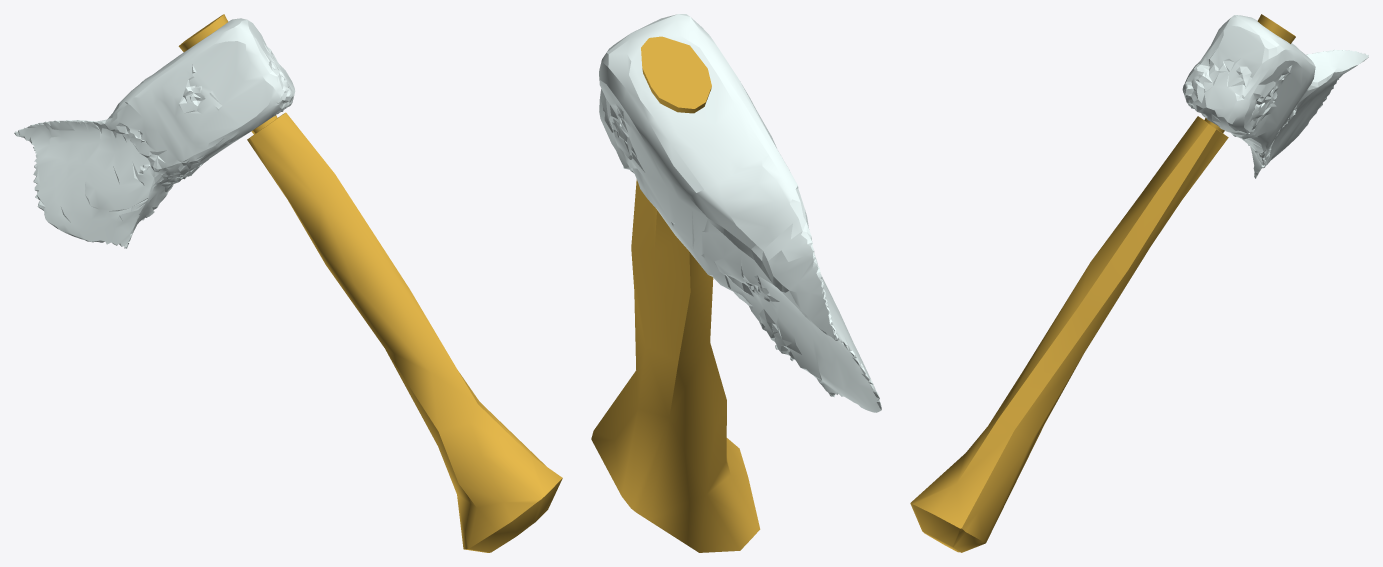
The model's file is axe-iron-10.glb.
3 views of the same model, side by side, from view 1: azimuth 30°, elevation 25°; view 2: azimuth 150°, elevation 25°; view 3: azimuth 270°, elevation 25° (orthographic). The views are drawn at different scales.
Parts seen in each view (by area): view 1: iron-axe, iron-axe-head; view 2: iron-axe-head, iron-axe; view 3: iron-axe, iron-axe-head.
Part boxes in pixels (box(x1,y1,x2,y2)): iron-axe: box(178, 14, 562, 552); iron-axe-head: box(14, 18, 295, 248); iron-axe-head: box(599, 14, 881, 412); iron-axe: box(591, 36, 760, 552); iron-axe: box(910, 14, 1295, 552); iron-axe-head: box(1182, 15, 1368, 178).
Size of the model in its own units: 0.6896 by 0.8647 by 0.7545.
